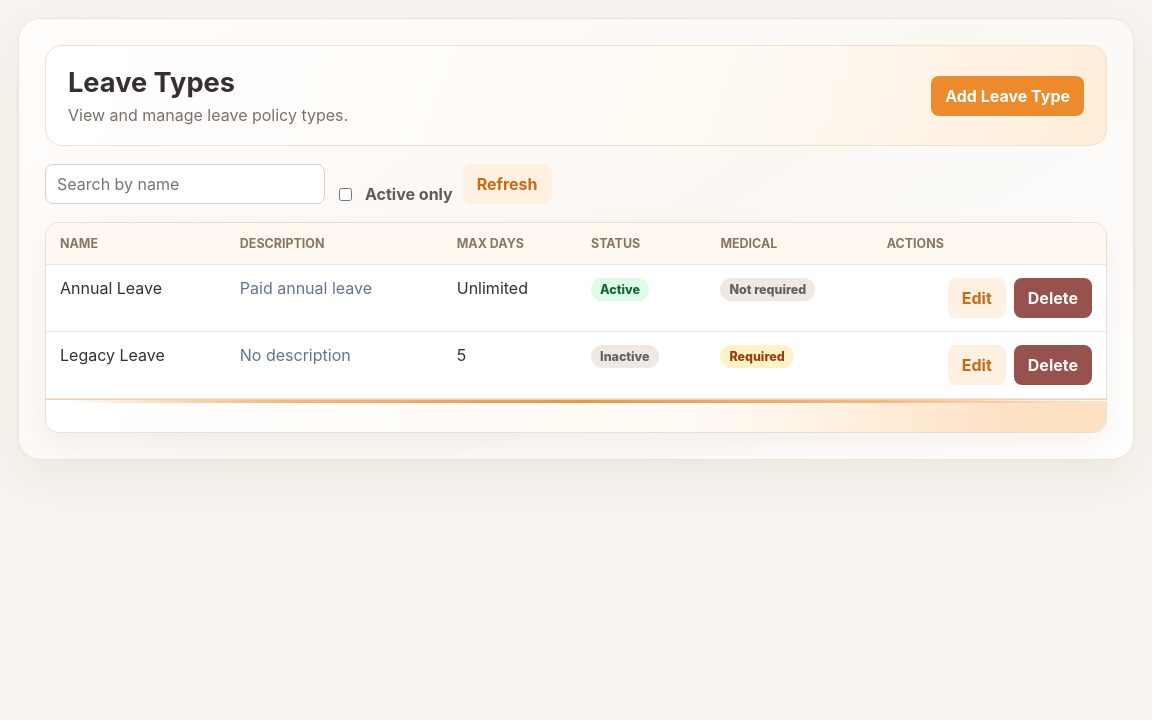
Test: LeaveTypeListComponent › handles delete conflict safely
This screenshot has width=1152, height=720.
Click the button "Delete" in the row of "Paid annual leave" at (1053, 298), box [1014,278,1092,318]
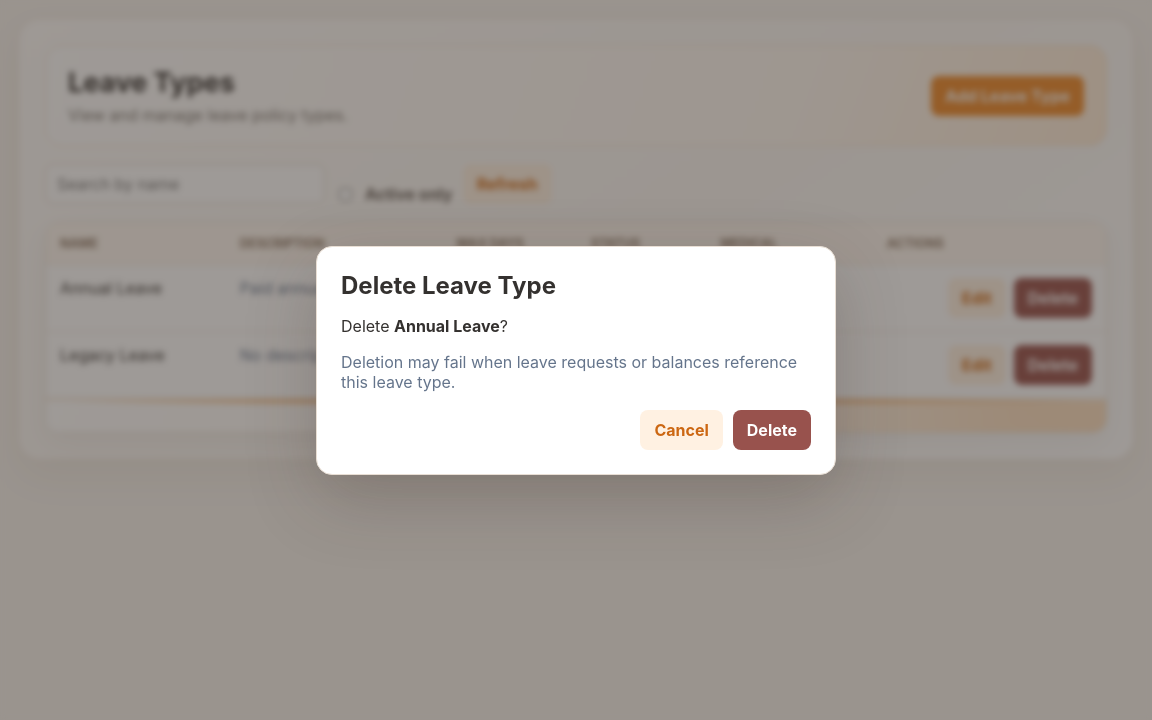
Click the button with class "danger-button" showing "Delete" at (772, 430), box [733,410,811,450]
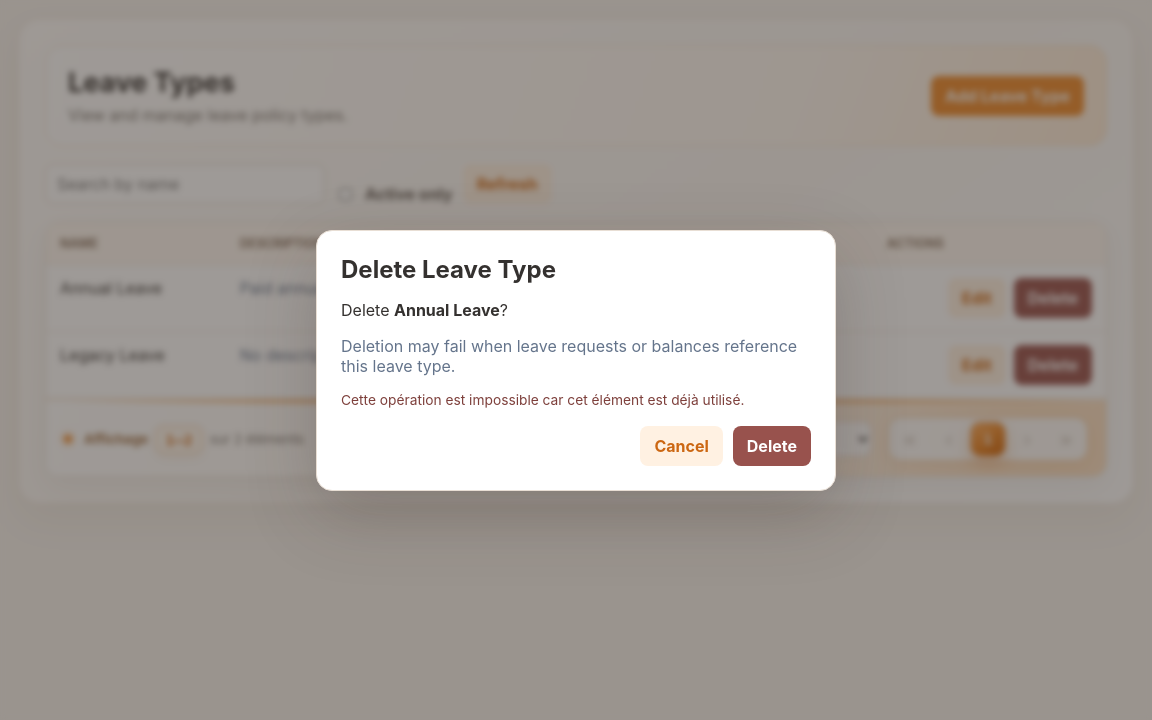
Expected: the text "Cette opération est impossible car cet élément est déjà utilisé." is shown, [341,392,811,408]
